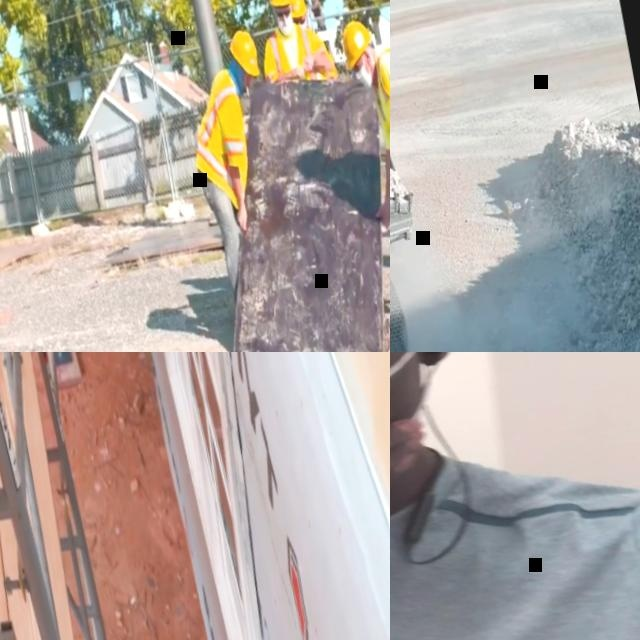Hardhat: (224, 28, 261, 80), (339, 18, 375, 68), (286, 0, 306, 20), (263, 0, 291, 8)
Mask: (352, 54, 375, 91), (274, 11, 295, 39), (298, 22, 307, 31)
NO-Safety Vest: (390, 436, 640, 640)
Person: (390, 352, 640, 640), (172, 27, 300, 313), (338, 3, 390, 328), (246, 0, 334, 91), (288, 0, 336, 82)
Safety Vest: (179, 69, 257, 210), (259, 24, 319, 85), (368, 39, 390, 173)
machinery: (390, 137, 446, 352)
